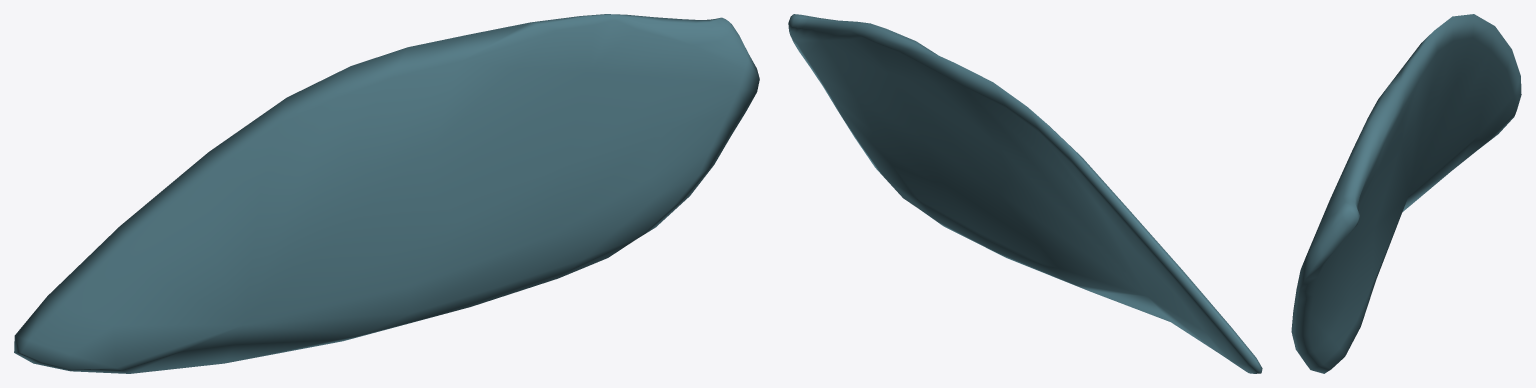
Rendered from Rectus_anterior_capitis_atlas_right.glb.
3 renders of one model, left to right at view 1: azimuth 30°, elevation 25°; view 2: azimuth 150°, elevation 25°; view 3: azimuth 270°, elevation 25°, orthographic. The views are drawn at different scales.
Parts seen in each view (by area): view 1: Rectus_anterior_capitis_muscle_on_atlas.r_Generated_Mesh_Fro; view 2: Rectus_anterior_capitis_muscle_on_atlas.r_Generated_Mesh_Fro; view 3: Rectus_anterior_capitis_muscle_on_atlas.r_Generated_Mesh_Fro.
Part boxes in pixels (box(x1,y1,x2,y2)): Rectus_anterior_capitis_muscle_on_atlas.r_Generated_Mesh_Fro: box(14, 14, 759, 373); Rectus_anterior_capitis_muscle_on_atlas.r_Generated_Mesh_Fro: box(788, 14, 1262, 373); Rectus_anterior_capitis_muscle_on_atlas.r_Generated_Mesh_Fro: box(1291, 14, 1521, 373).
Size of the model in its own units: 0.0162 by 0.00635 by 0.00414.
